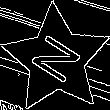N_SE: (25, 29, 88, 90)
